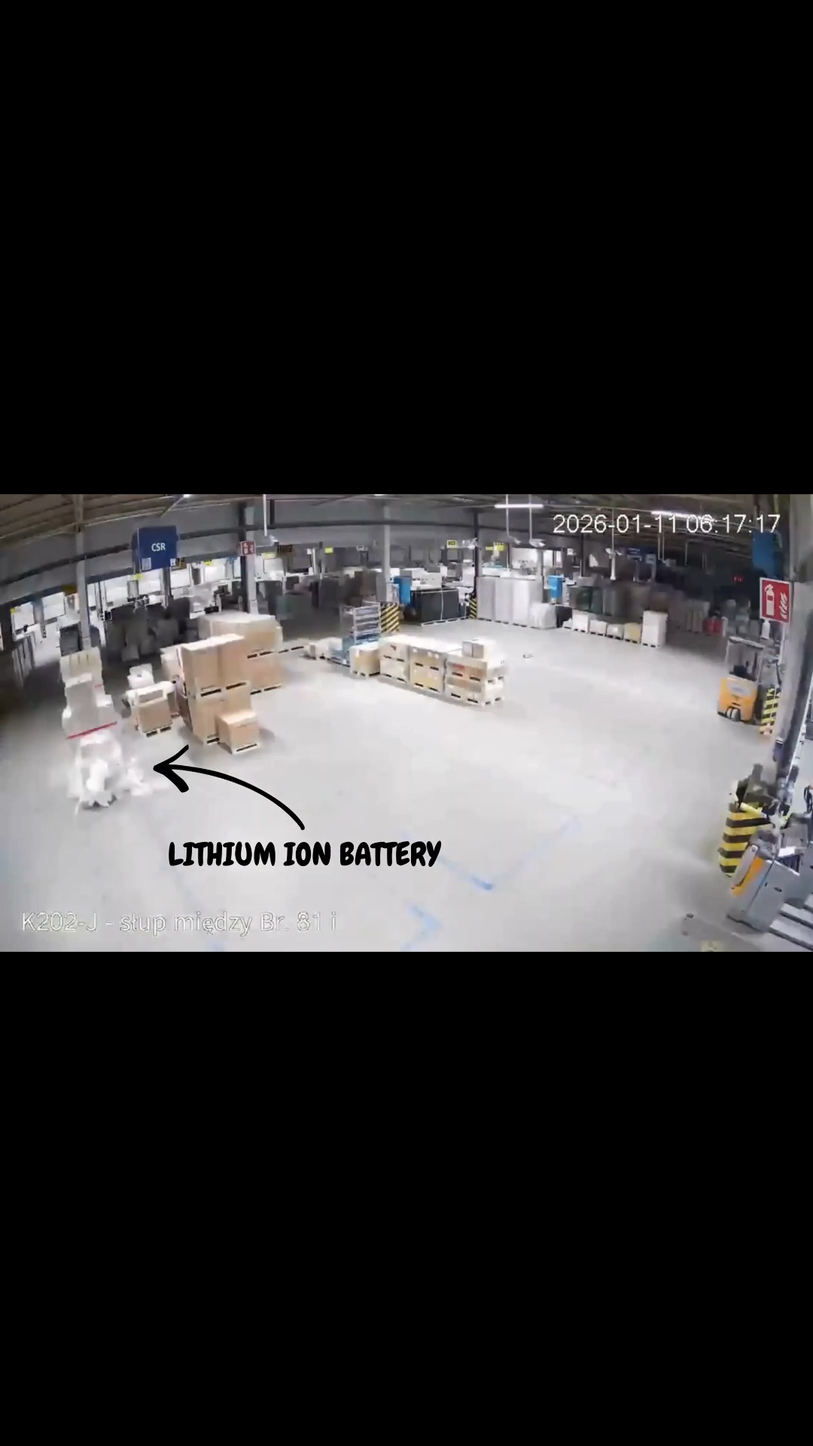smoke: (62, 733, 157, 813)
